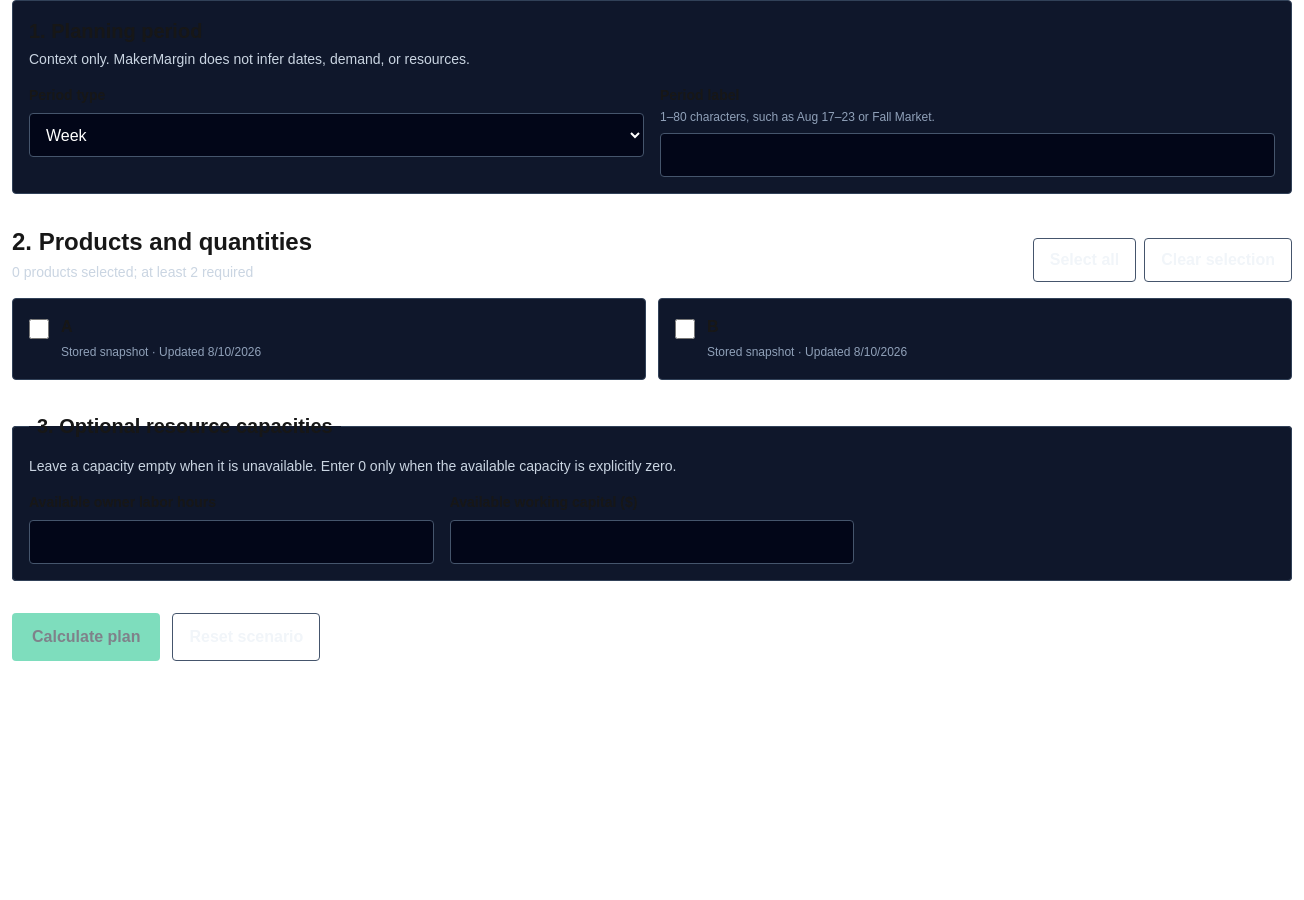
PlanWorkspace setup › deduplicates shared machines by stable key while preserving labels
The width and height of the screenshot is (1304, 900).
Click the button "Select all" at [1084, 260], box x1=1033 y1=238 x2=1136 y2=282
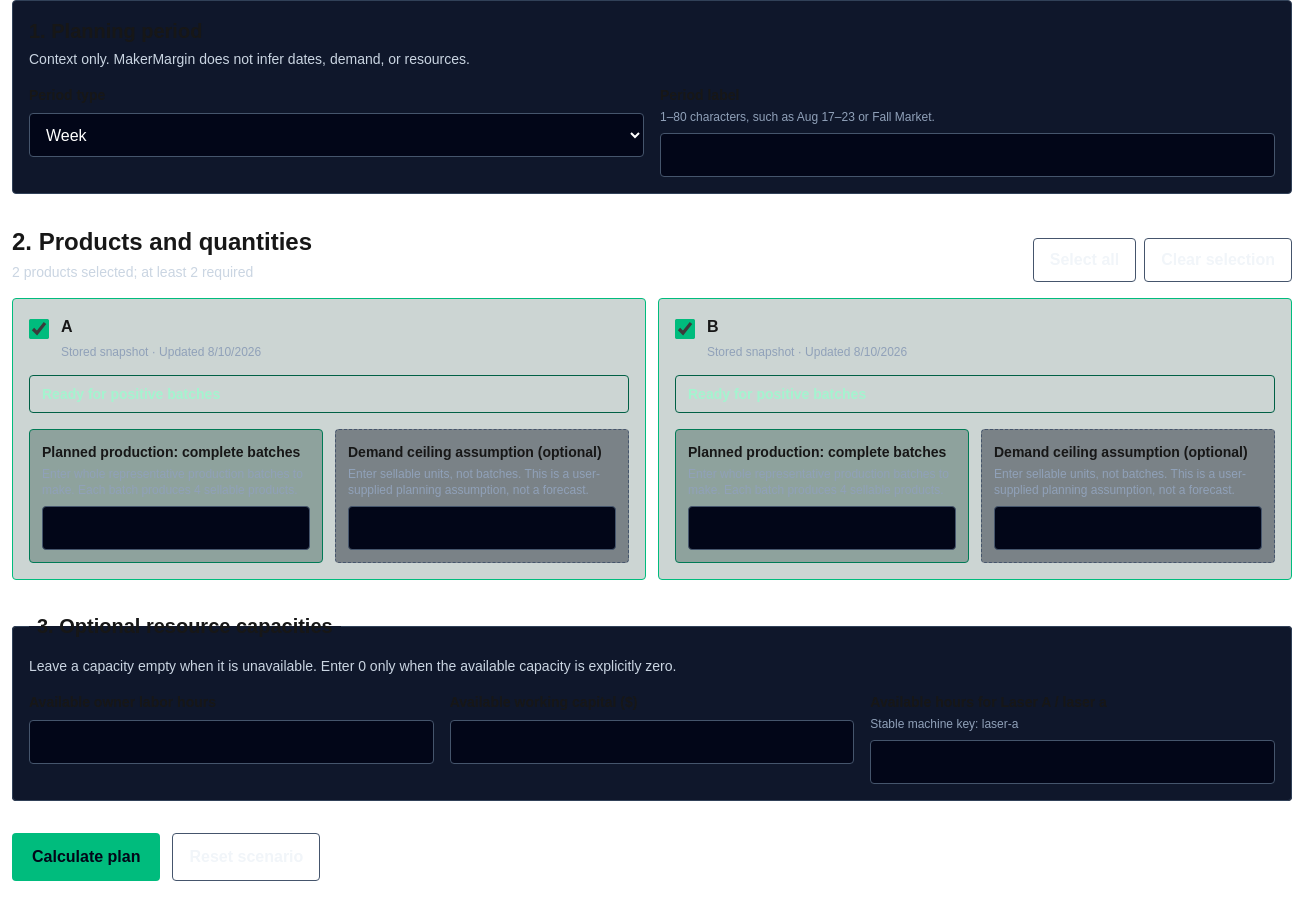
Result: the number of number fields labelled "Available hours for Laser A / laser a" is 1 at x1=870 y1=740 x2=1275 y2=784
Result: the text "Stable machine key: laser-a" is shown at x1=870 y1=717 x2=1018 y2=731
